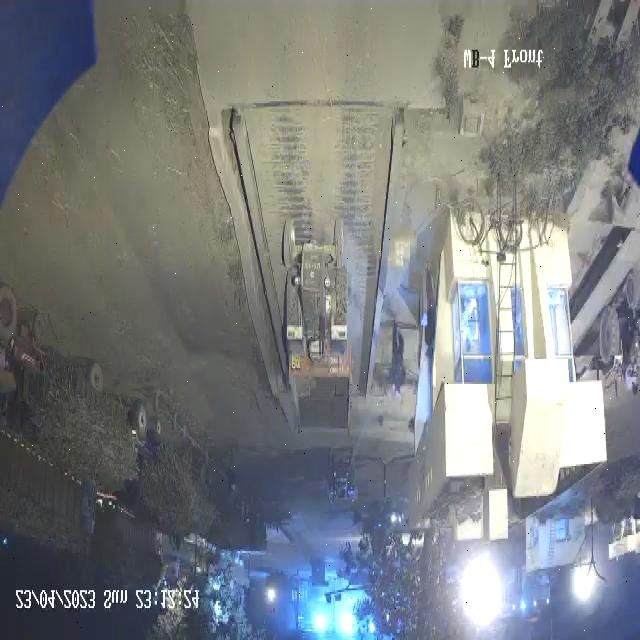Tratores - v5 YOLO V8L 2024-11-13: (278, 215, 358, 358), (323, 444, 362, 512)
